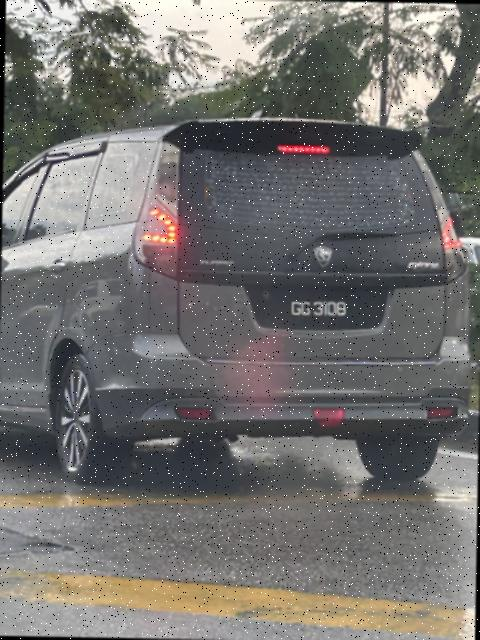License_Plate: (252, 289, 385, 331)
car: (1, 105, 480, 500)
